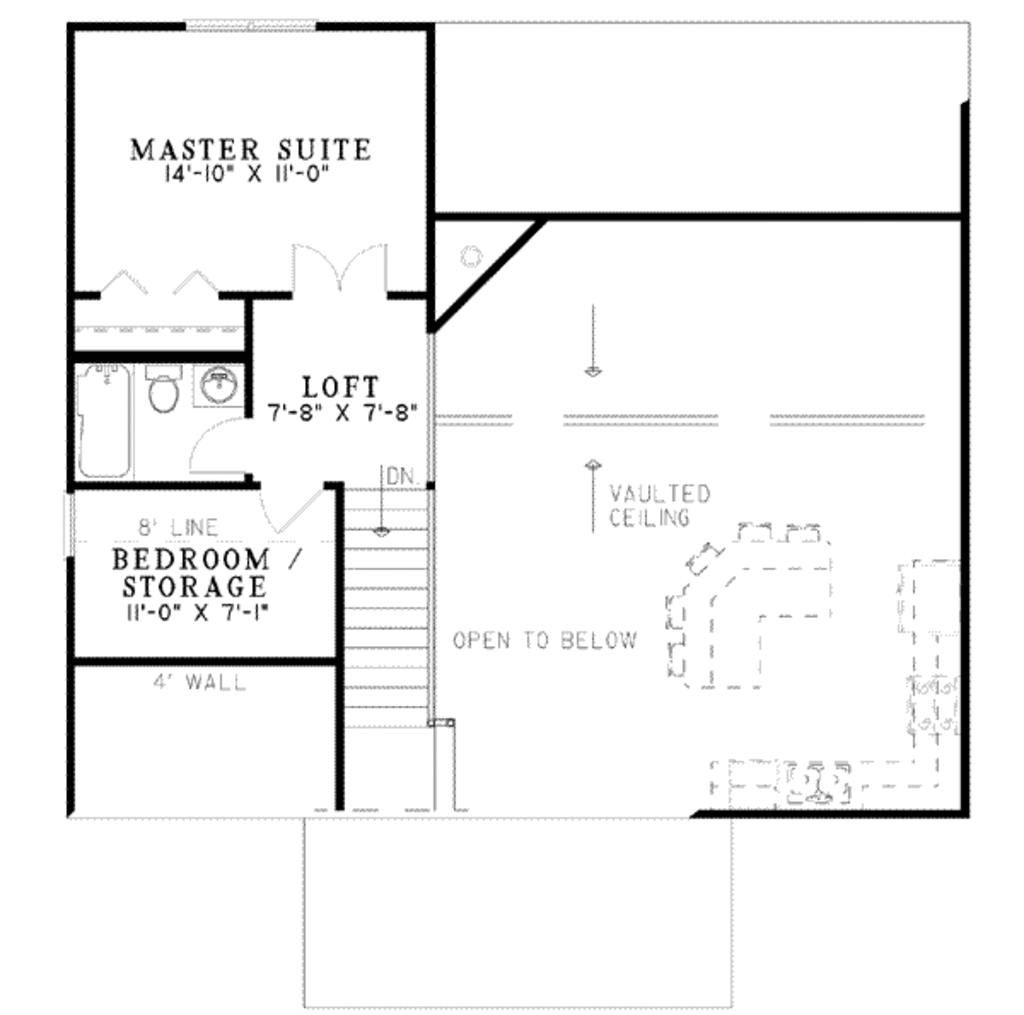door: (280, 244, 392, 304), (183, 412, 255, 475), (251, 478, 325, 536)
large_sink: (135, 355, 191, 416)
small_sink: (199, 358, 243, 412)
stairs: (346, 487, 446, 812)
tub: (71, 360, 140, 480)
window: (185, 15, 325, 36), (68, 493, 80, 564)
